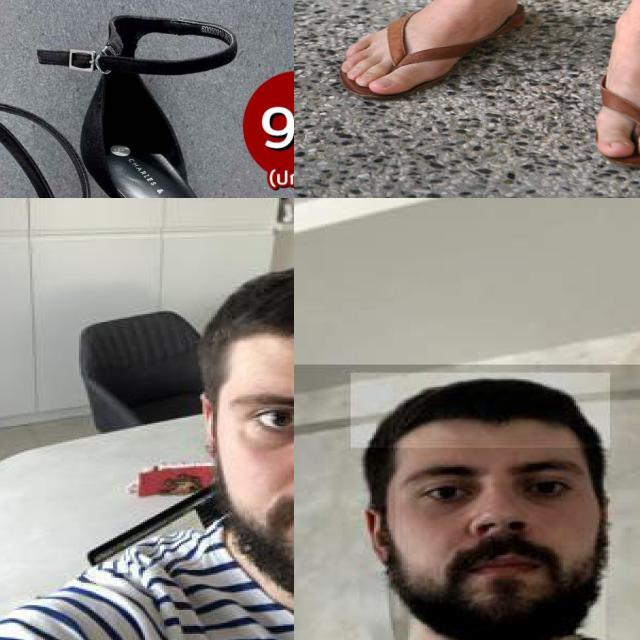No_Ear-Protection: (170, 390, 235, 457), (349, 499, 409, 568)
No_Glasses: (391, 444, 595, 526), (216, 373, 294, 451)
Sandals: (18, 0, 294, 198), (0, 84, 294, 198), (331, 0, 525, 99), (589, 7, 640, 168)
face_nomask: (395, 448, 605, 640), (219, 363, 294, 605)
head_nohelmet: (351, 372, 610, 448), (200, 287, 294, 367)
person: (0, 266, 294, 640), (294, 364, 640, 640)
